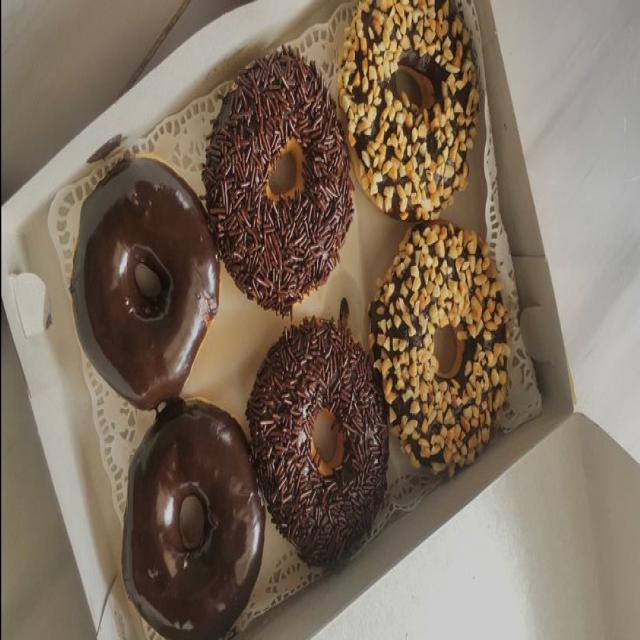donat: (367, 219, 528, 478), (198, 49, 353, 316), (242, 315, 391, 571), (69, 155, 217, 409), (120, 397, 265, 640), (327, 0, 480, 224)
